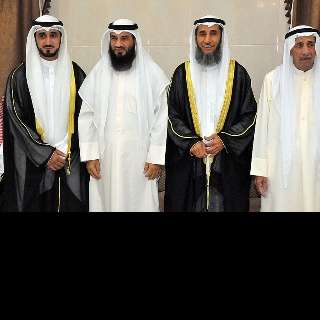without_mask: (289, 34, 317, 71), (194, 24, 223, 55), (34, 28, 61, 57), (107, 32, 137, 58)
